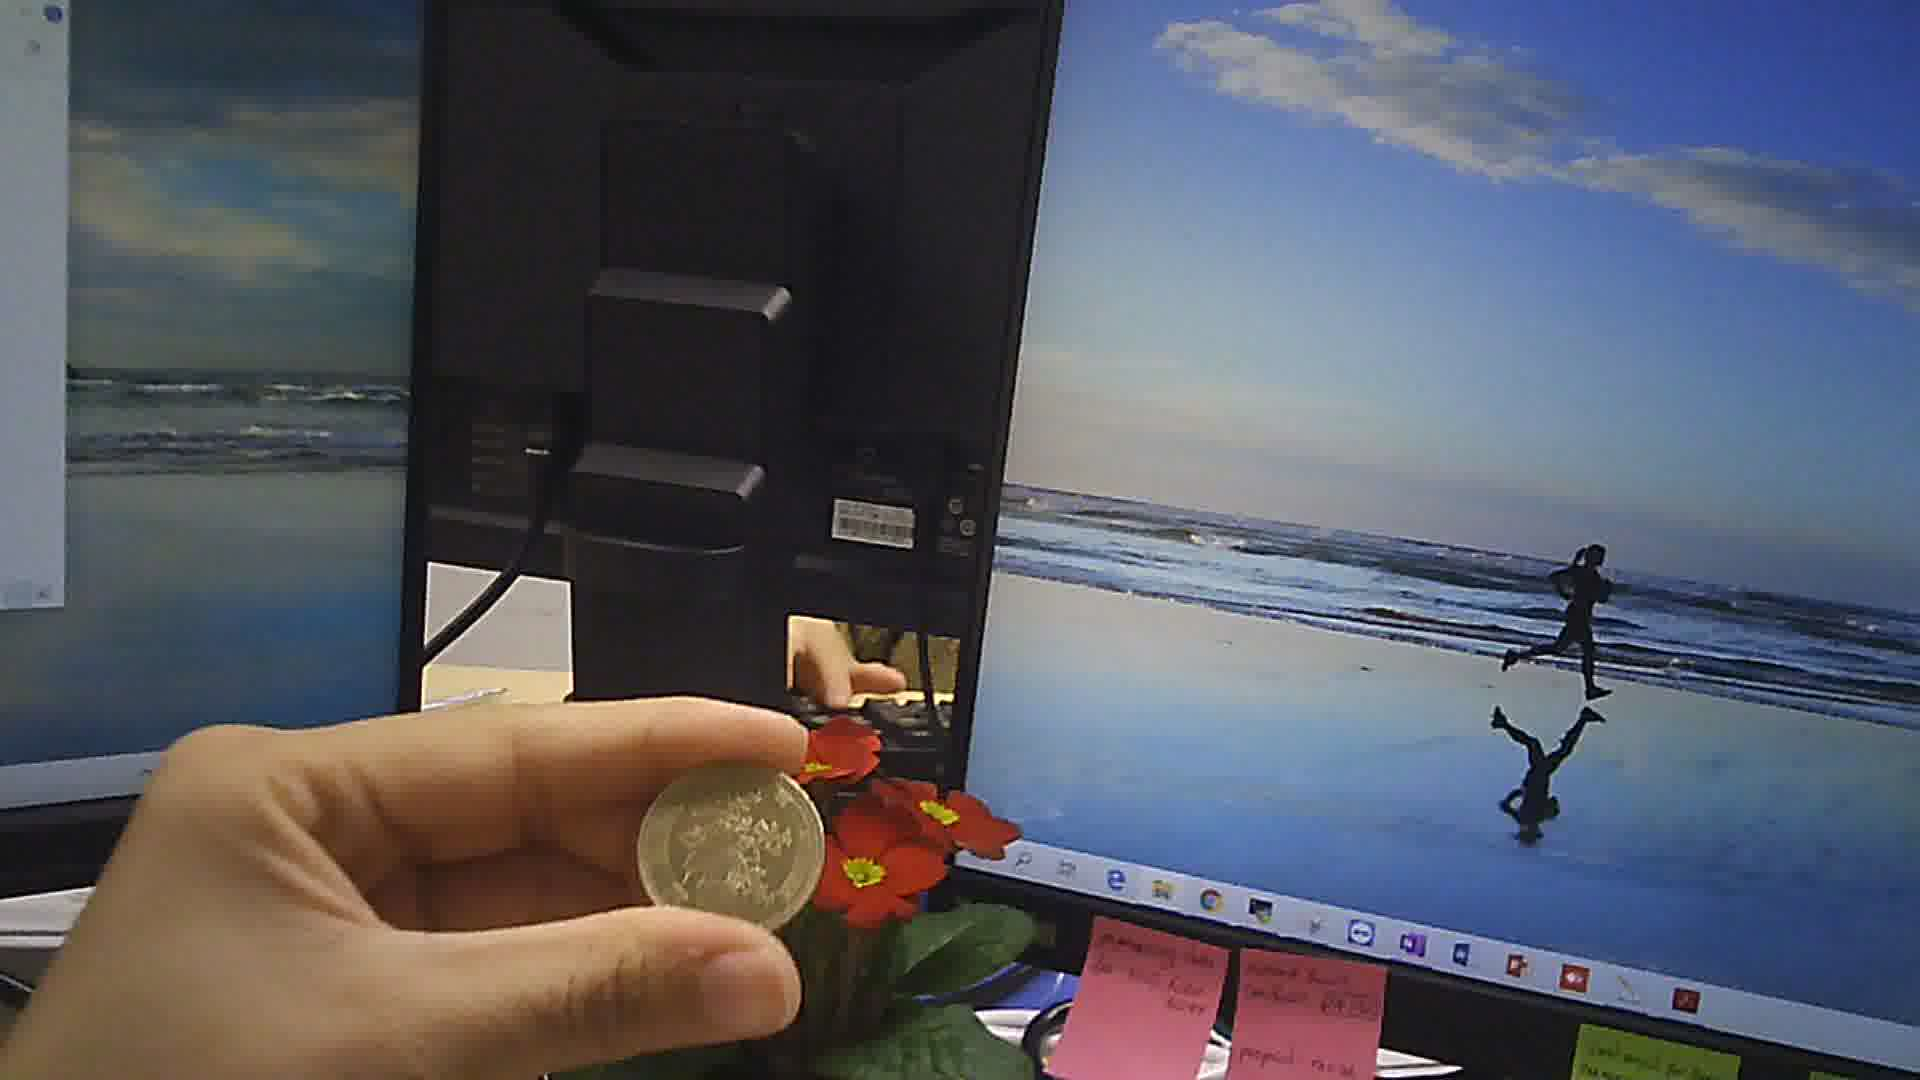500 Yen: (632, 748, 835, 938)
